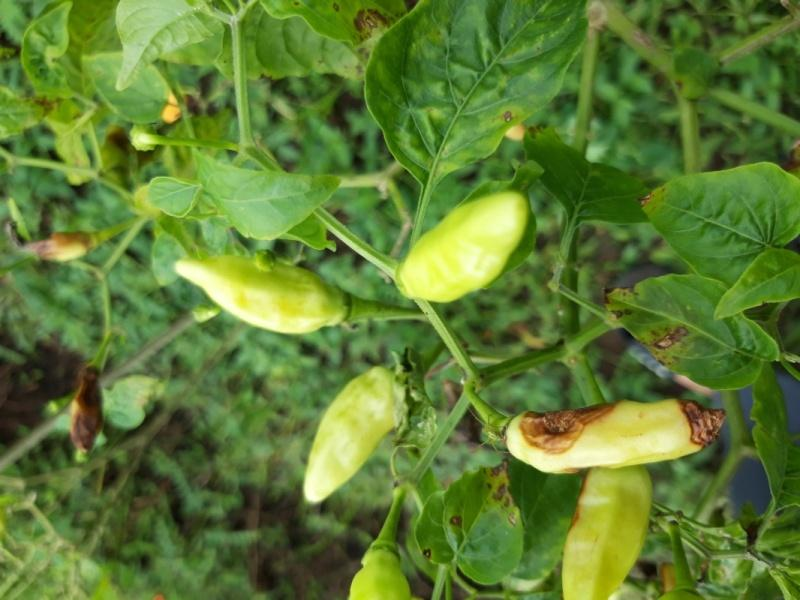antraknosa: (505, 399, 727, 474), (562, 463, 652, 599), (7, 219, 90, 261), (69, 366, 106, 459)
cabai_normal: (177, 253, 346, 334), (404, 191, 526, 303), (302, 365, 398, 503)
